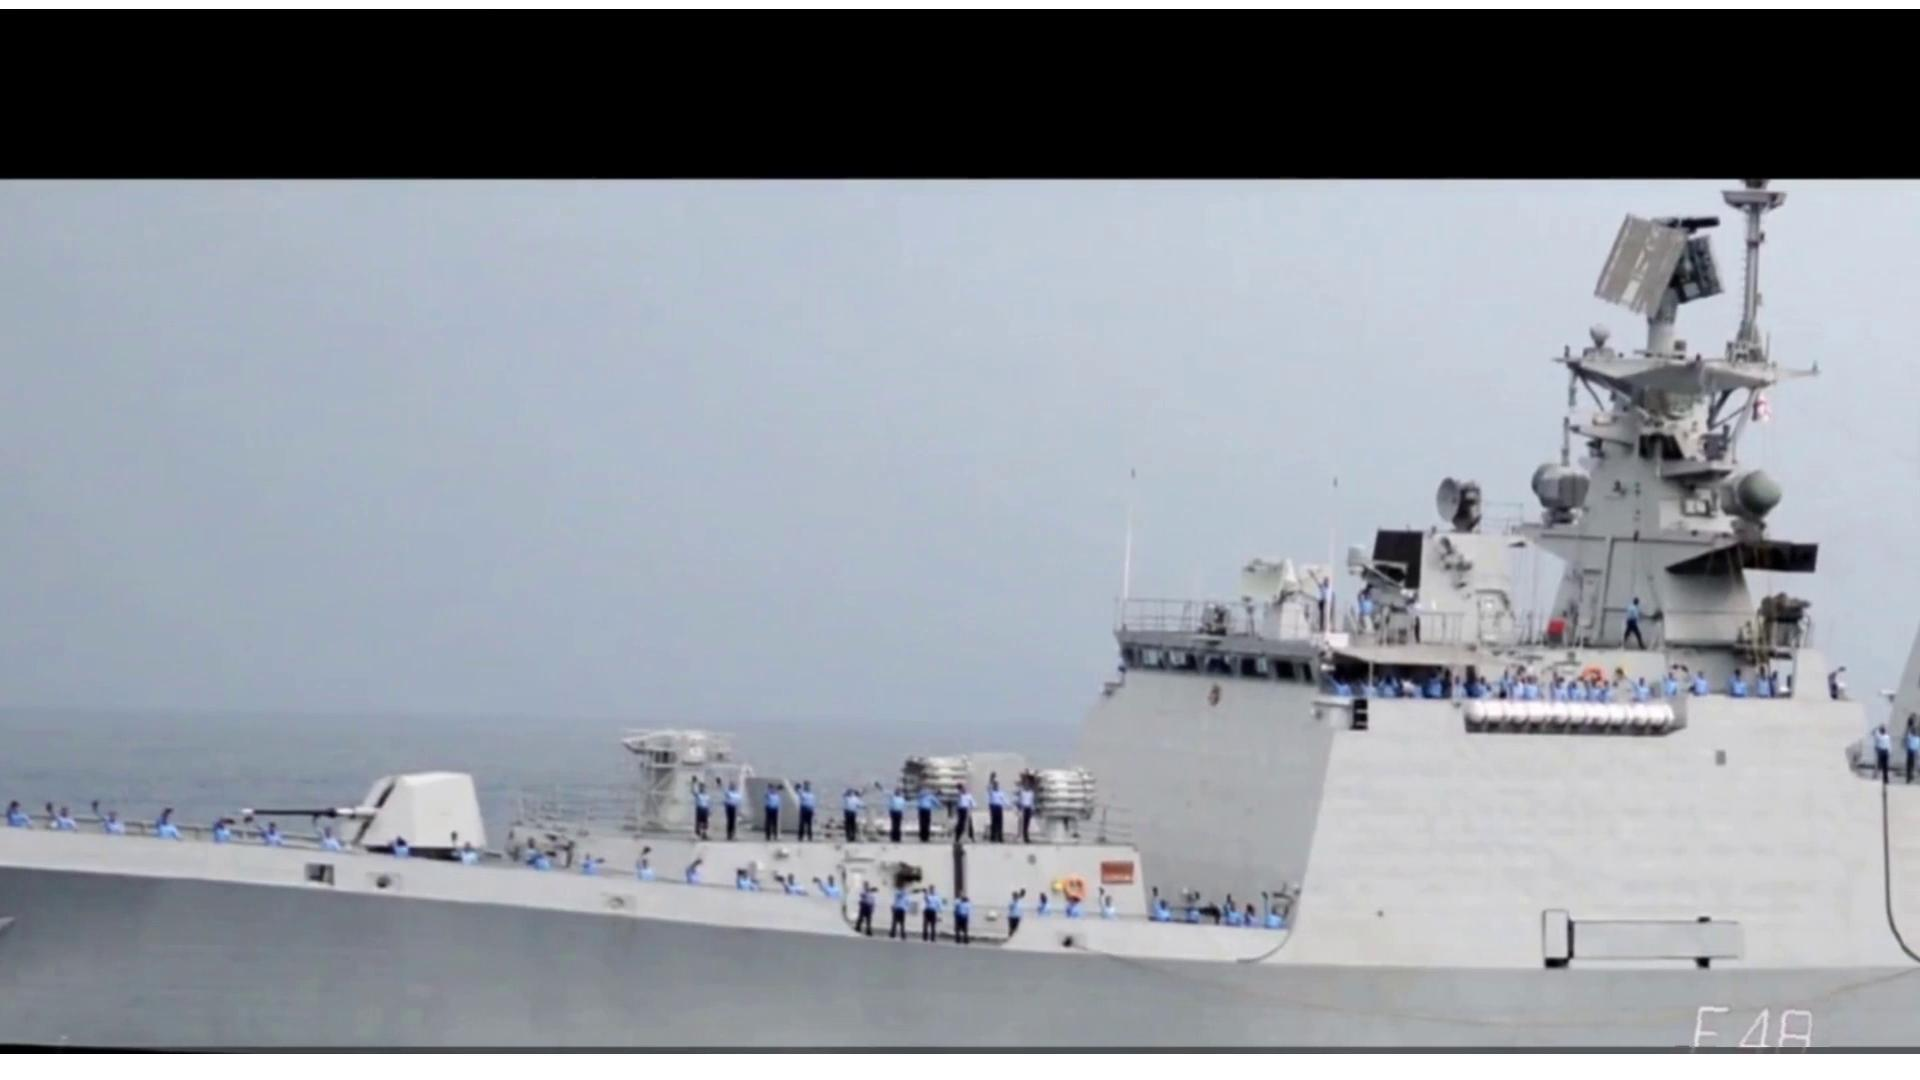OCR: (1672, 986, 1830, 1048)
